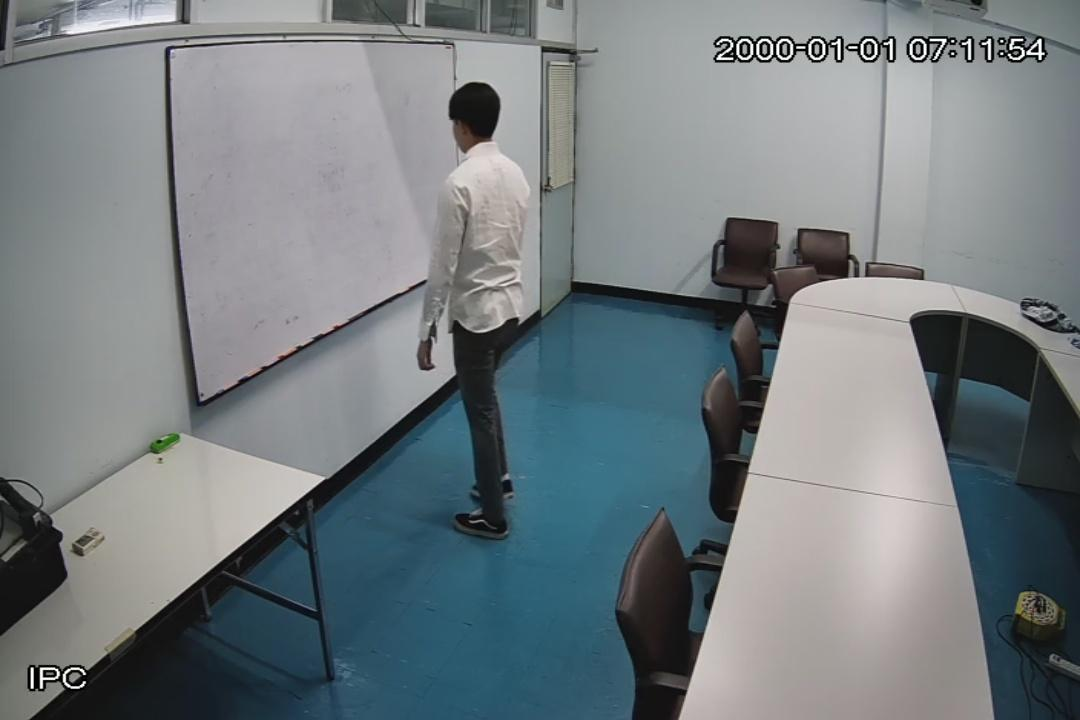normal: (415, 82, 531, 540)
